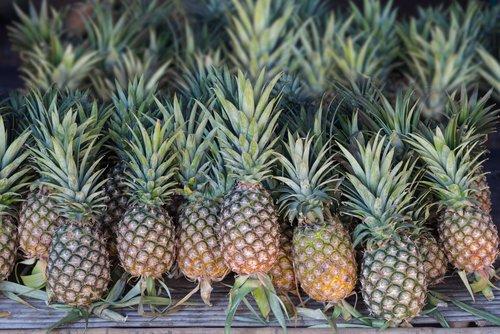pineapple: (213, 185, 284, 279), (109, 198, 178, 289), (43, 223, 116, 307), (292, 224, 358, 304), (366, 238, 426, 325)
